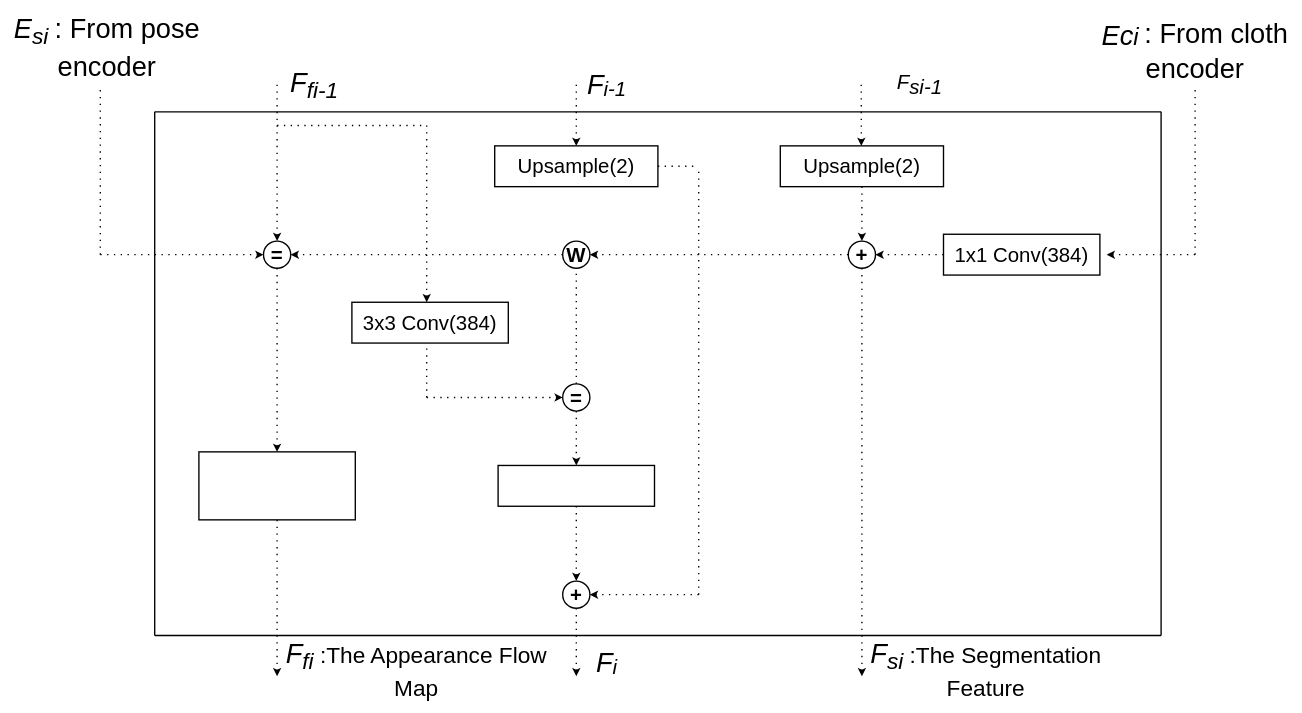
Image size: 1302x713. Some labels were removed from this diagram. Here are the shapes that lost their labels. From the top down, the centre of each, then its label:
At (x=277, y=485): "ResBlock (384) Up(2)".
At (x=576, y=485): "3x3 Conv(2)".
